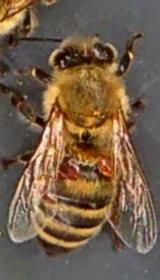varroa_mite: (54, 156, 85, 182), (93, 154, 119, 180)
